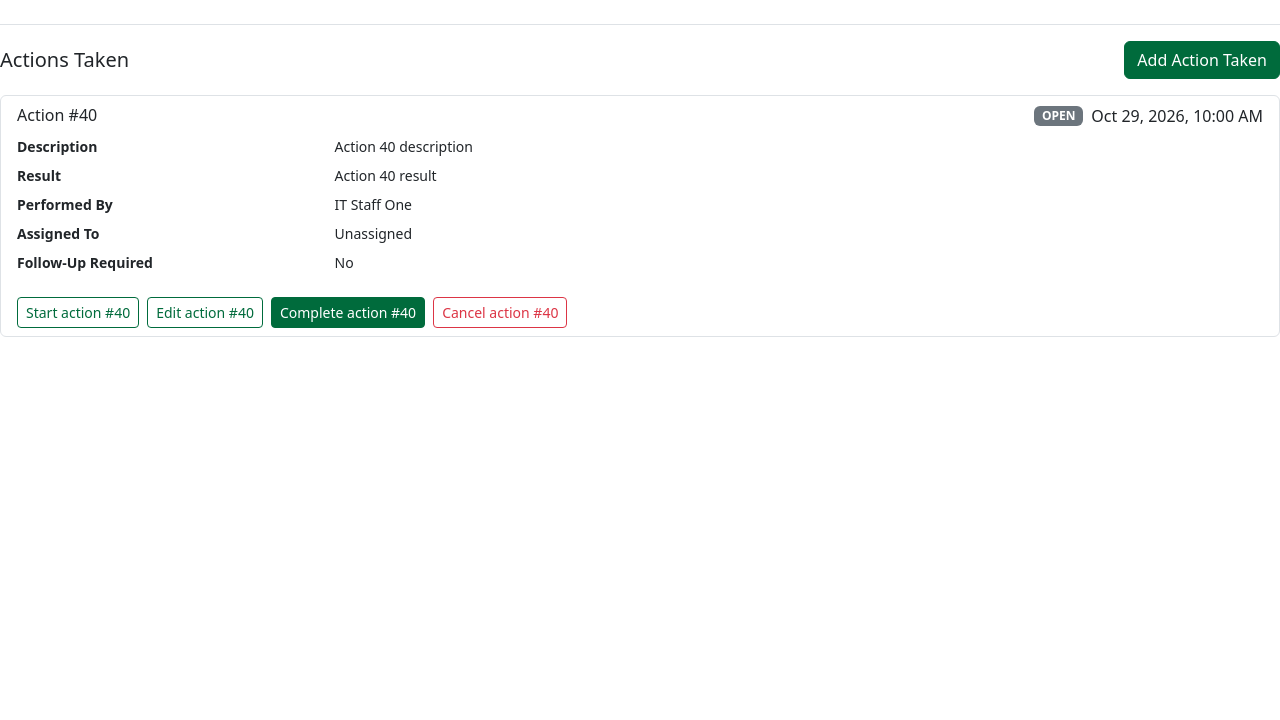
Issue #69 Actions Taken Ticket Detail interface › closes an edit form when a conflict refresh shows the action is terminal
Click the button "Edit action #40" at (205, 312), box [147,297,263,328]
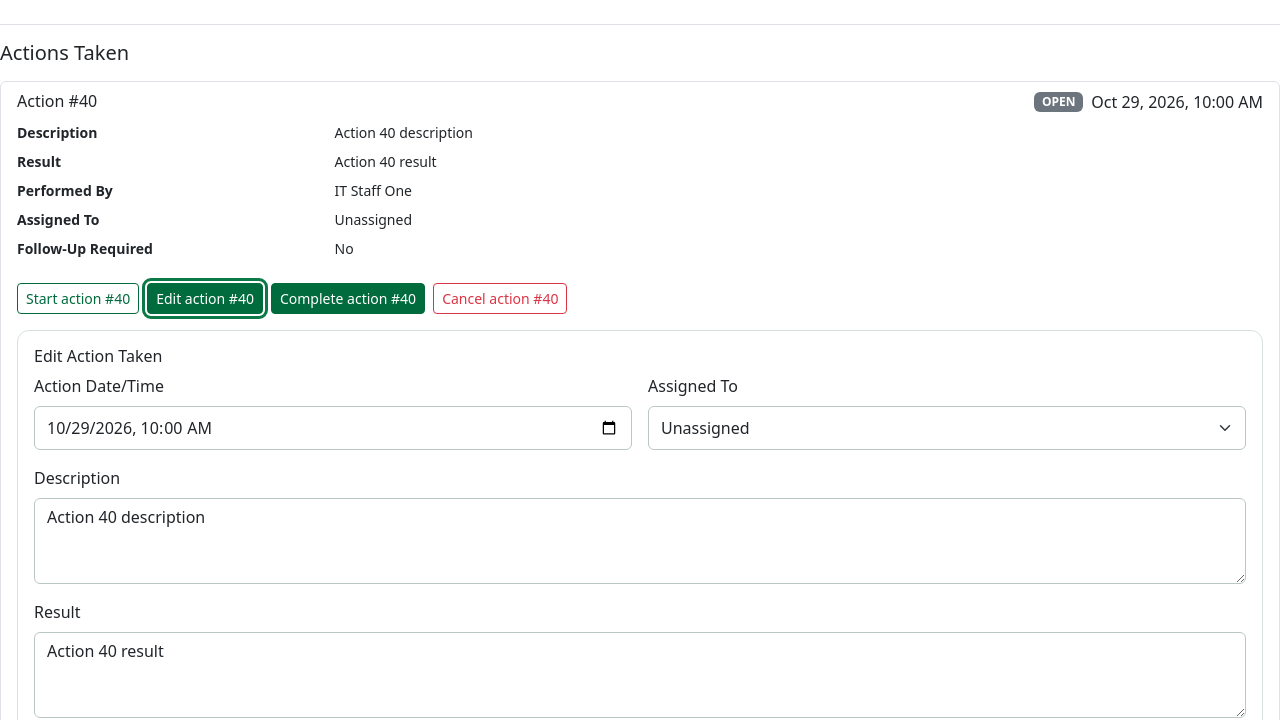
Replace the text in the text box labelled "Description" with "Unsaved description" at (640, 541), box [34,498,1246,584]
(page scrolled)
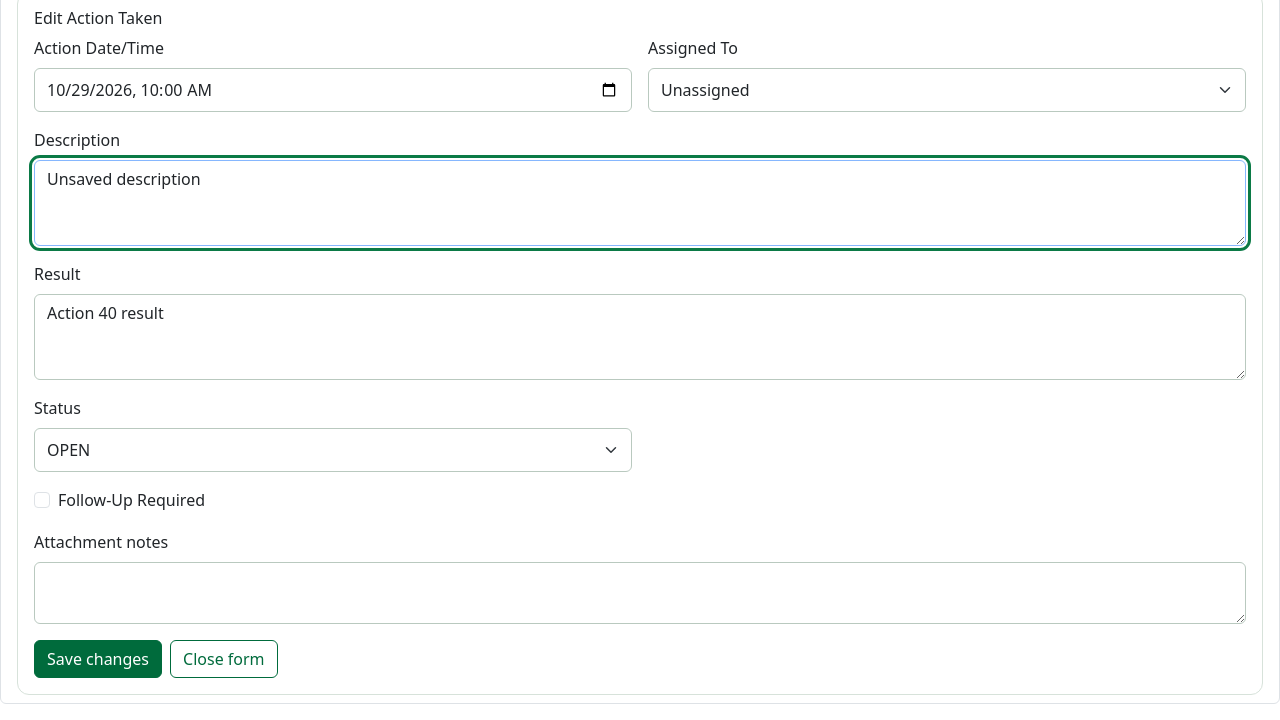
Click the button "Save changes" at (98, 659), box [34,640,162,678]
(page scrolled)
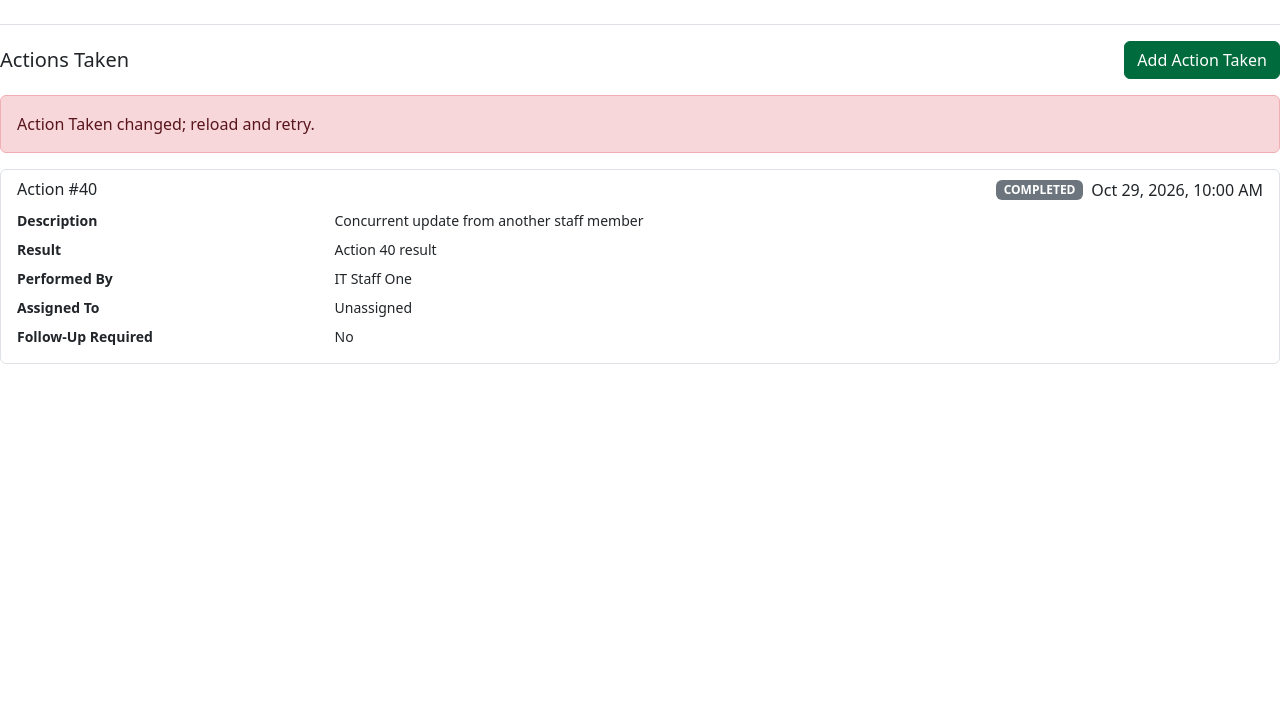
Result: the message reads "Action Taken changed; reload and retry." at [17,113,315,135]
Result: the text "COMPLETED" is shown at [996,180,1083,200]
Result: the text "Concurrent update from another staff member" is shown at [334,211,644,230]
